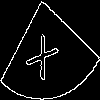X: (25, 25, 64, 81)
